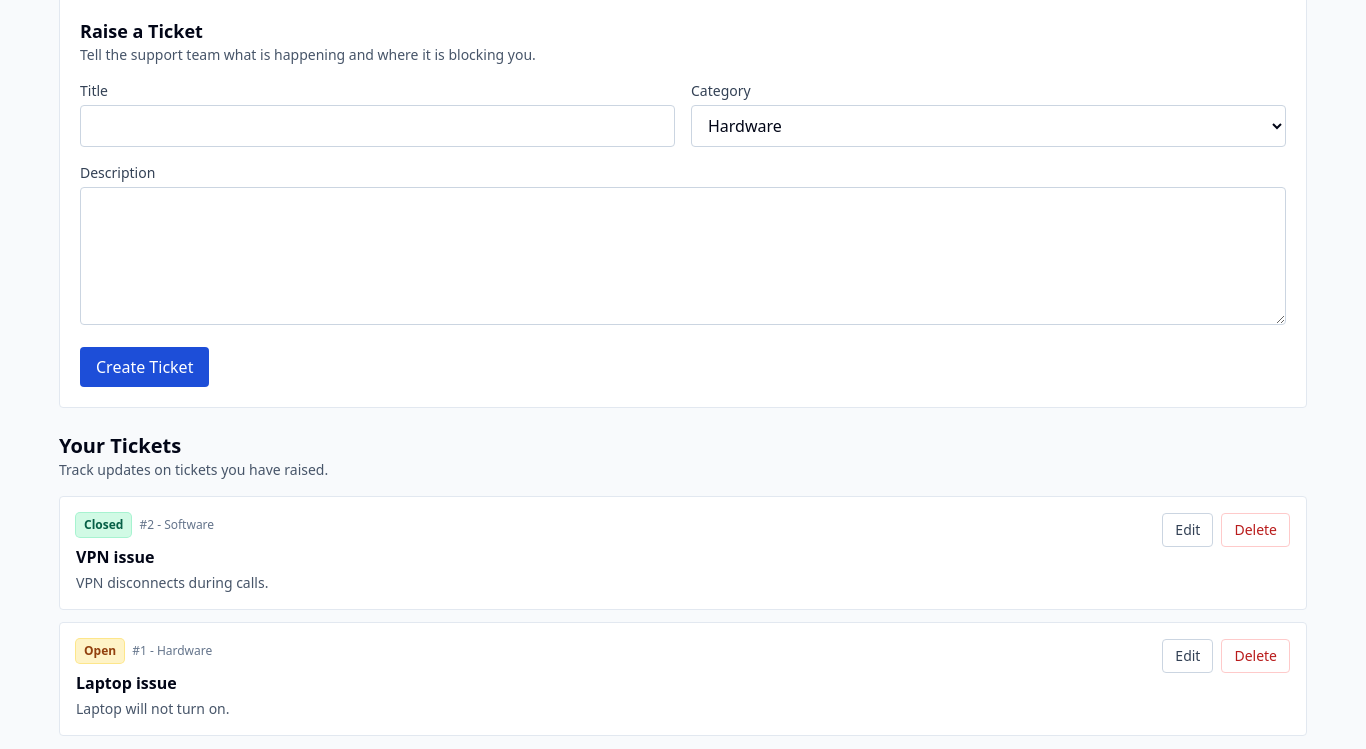
opens the edit drawer and saves ticket changes
This screenshot has width=1366, height=749.
(page scrolled)
Click the button "Edit" in the row of "Hardware": (1188, 656) [1162,639,1214,673]
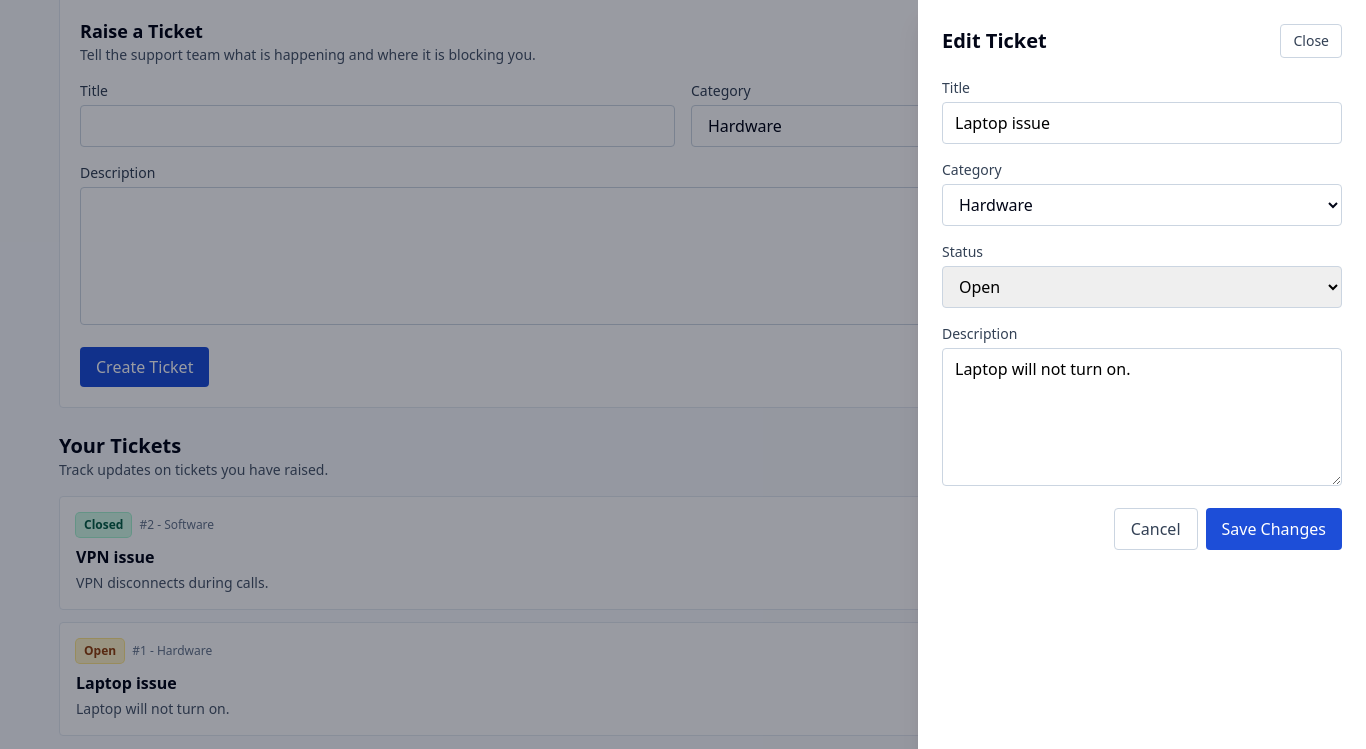
Replace the text in the field with test id "ticket-title" showing "Title" with "Updated laptop issue": (1142, 123) [942,102,1342,144]
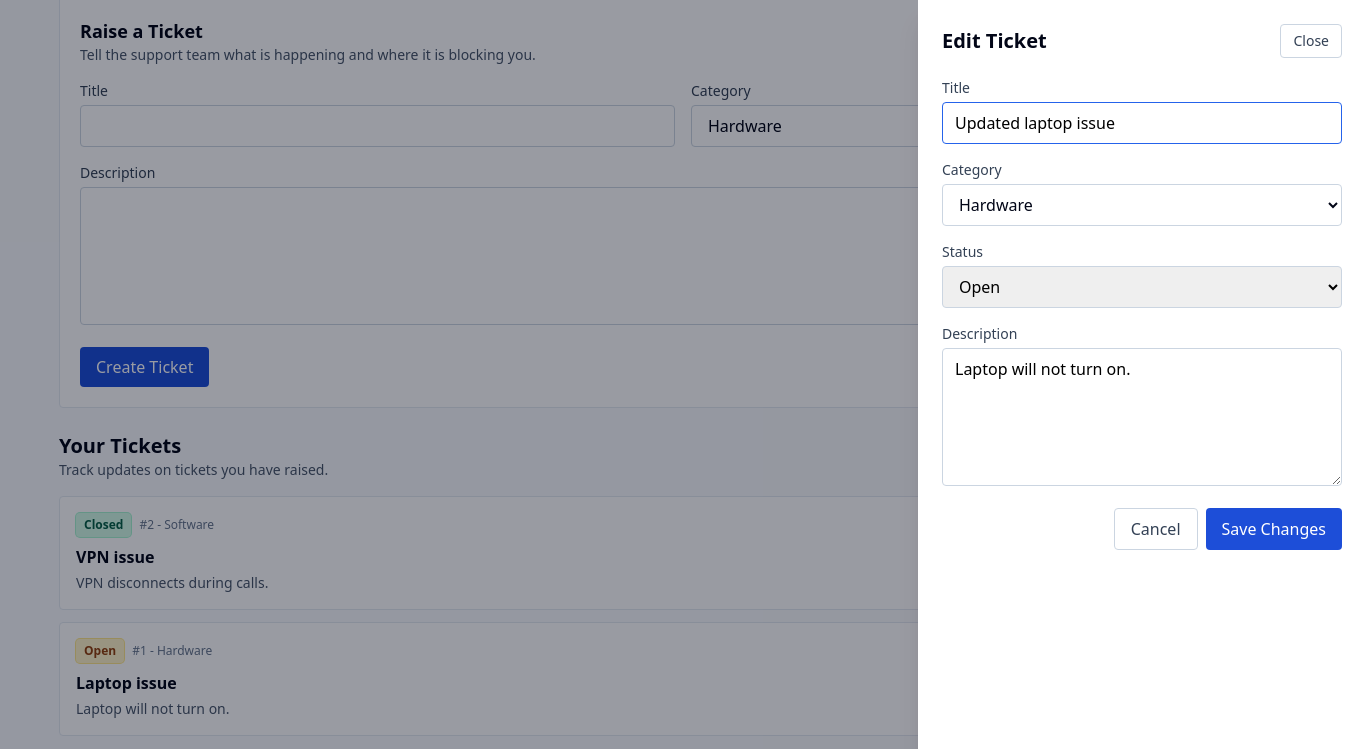
Replace the text in the text box with test id "ticket-description" showing "Description" with "Updated ticket description.": (1142, 417) [942,348,1342,486]
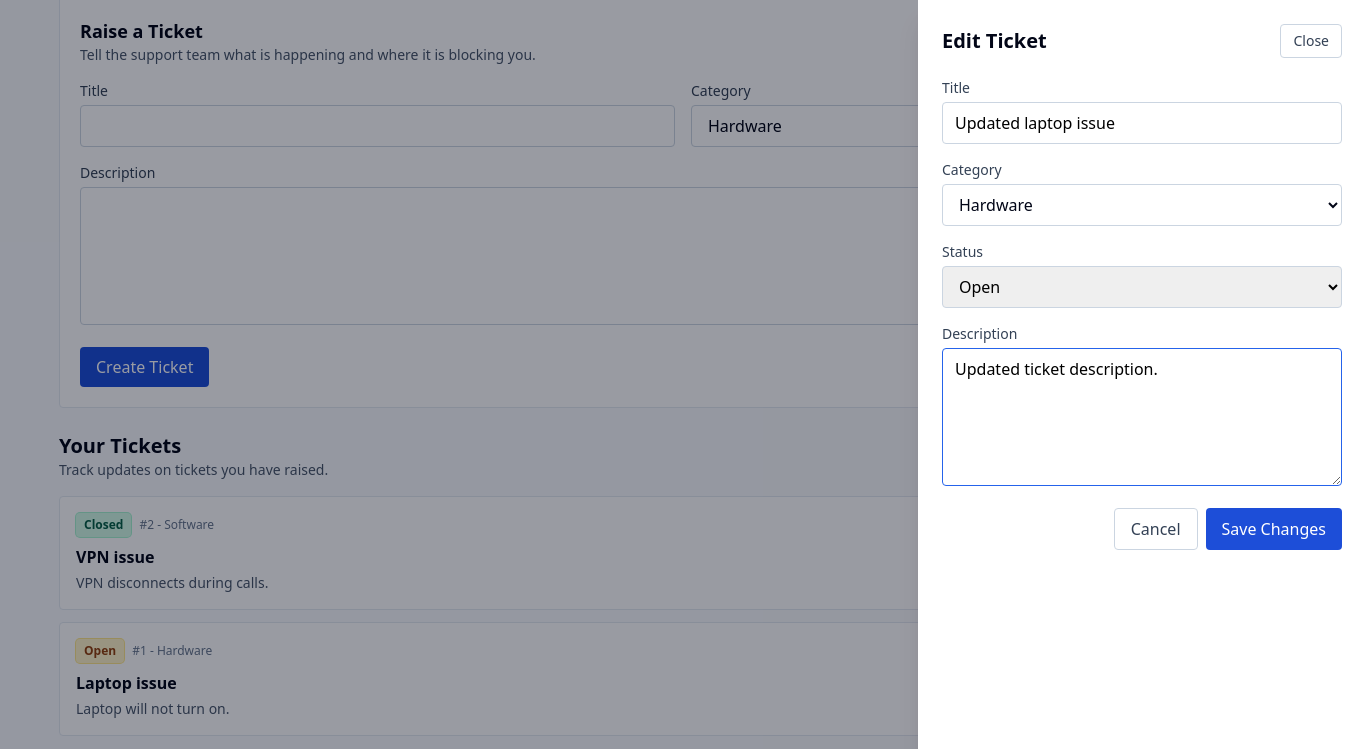
Click the button "Save Changes": (1274, 529) [1206,508,1342,550]
(page scrolled)
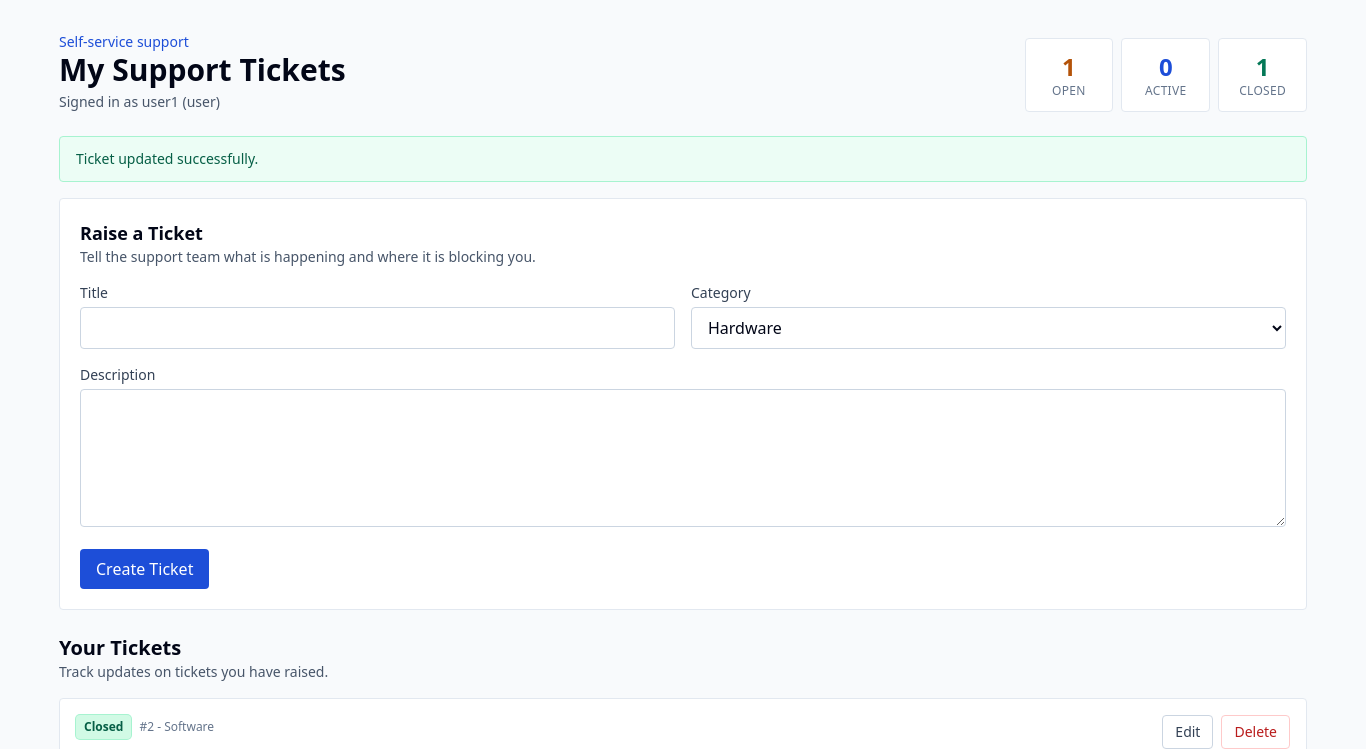
Result: the text "Ticket updated successfully." is shown at [59,136,1307,182]
